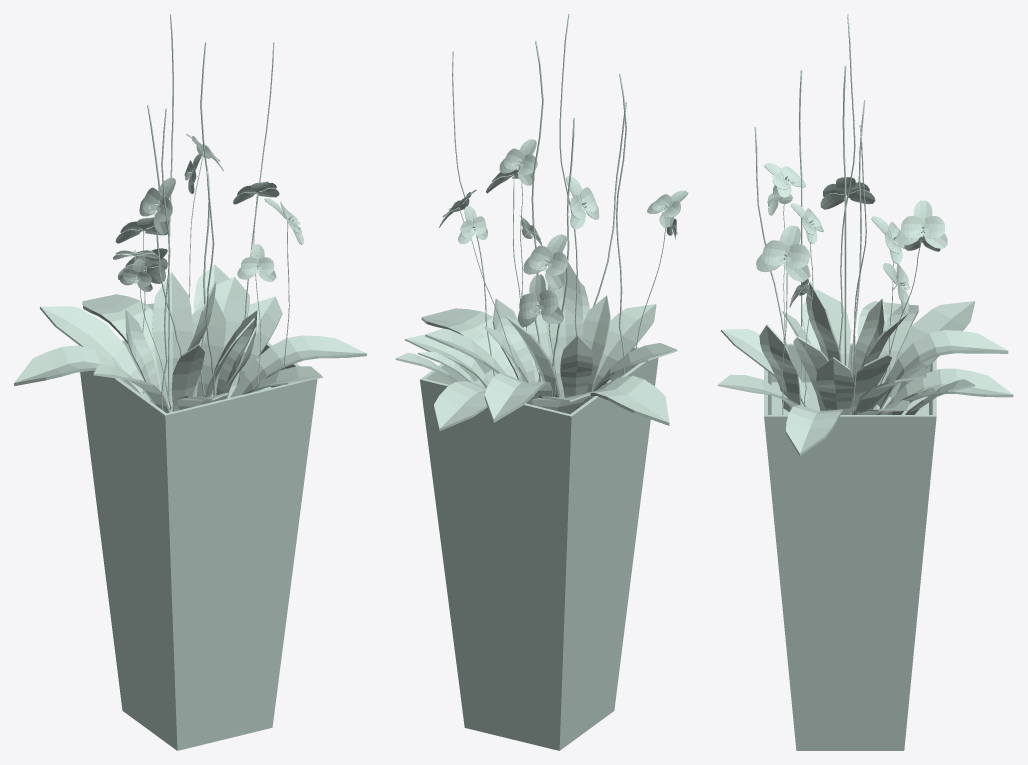
Rendered from PlantPot2.fbx.
The picture shows the model from 3 angles, left to right: view 1: azimuth 30°, elevation 25°; view 2: azimuth 150°, elevation 25°; view 3: azimuth 270°, elevation 25°; orthographic projection.
Parts seen in each view (by area): view 1: Orchid; view 2: Orchid; view 3: Orchid.
Part boxes in pixels (<box>): Orchid: <box>14,14,366,750</box>; Orchid: <box>395,14,688,750</box>; Orchid: <box>717,14,1013,750</box>.
Bounding box in the file's own units: 202 × 457 × 175.
